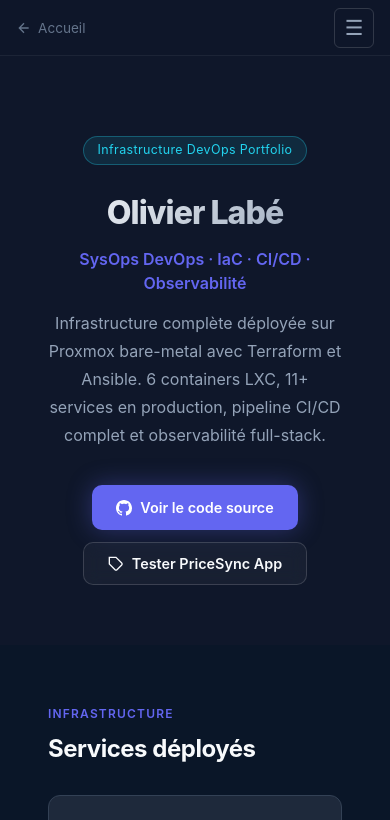
Test case: PortfolioPage › ouvre le menu mobile portfolio au clic sur hamburger
The image size is (390, 820).
Click the button with test id "port-hamburger".
click(354, 28)  # box x1=334 y1=8 x2=374 y2=48
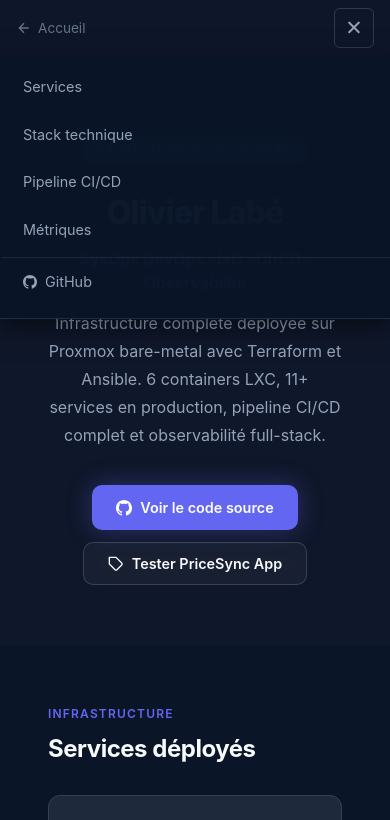
Now the button with test id "port-hamburger" is expanded, box x1=334 y1=8 x2=374 y2=48
